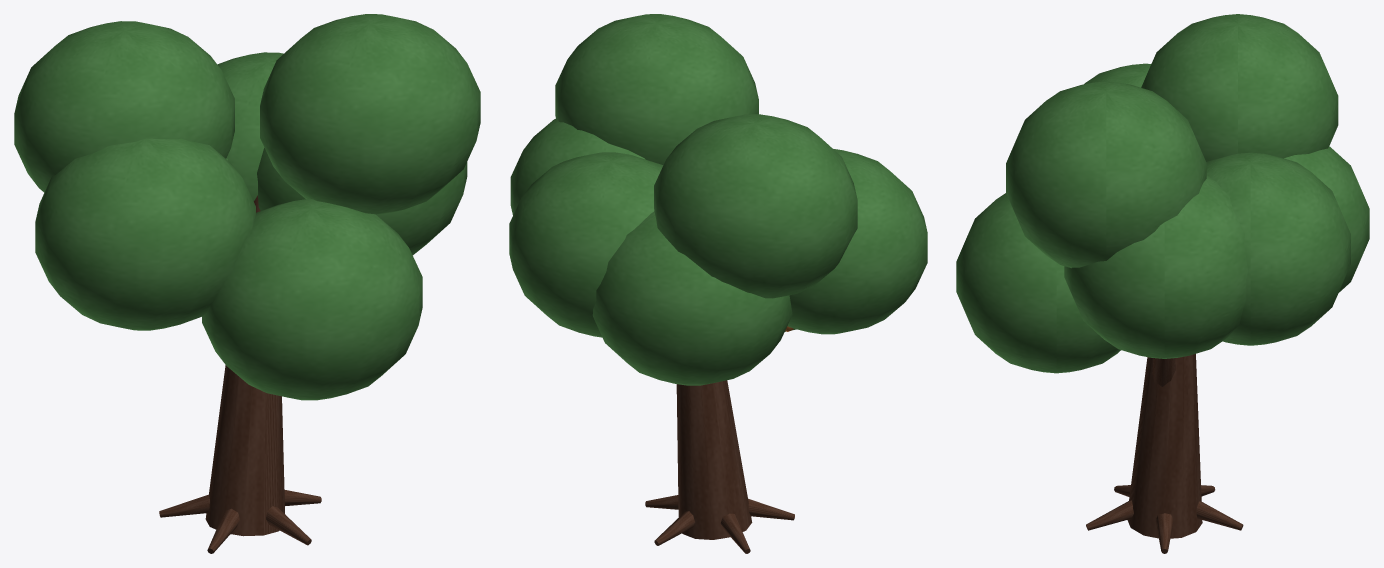
The model's file is olive.glb.
The picture shows the model from 3 angles, left to right: view 1: azimuth 30°, elevation 25°; view 2: azimuth 150°, elevation 25°; view 3: azimuth 270°, elevation 25°; orthographic projection. The views are drawn at different scales.
Visible parts, largest first — view 1: olive; view 2: olive; view 3: olive.
Part boxes in pixels (bbox=[...]): olive: bbox=[14, 14, 480, 553]; olive: bbox=[509, 14, 927, 553]; olive: bbox=[956, 14, 1369, 553].
Size of the model in its own units: 3.36 by 3.86 by 3.05.
3 materials, 3 textured.
